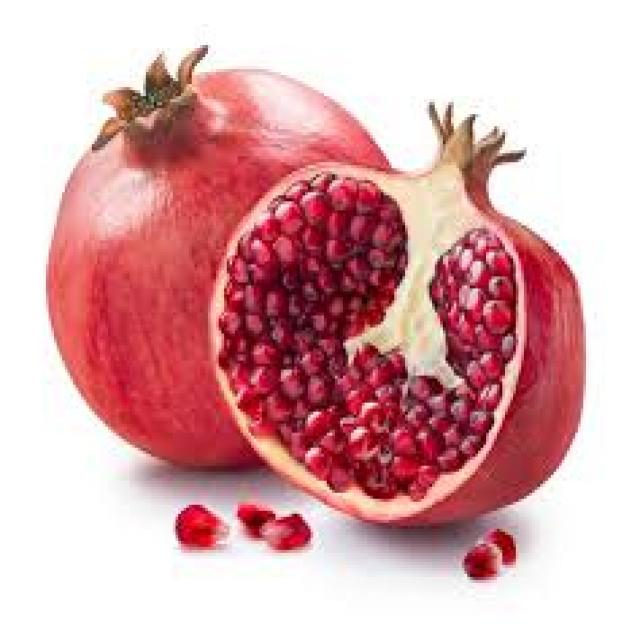organic waste: (206, 102, 584, 523), (43, 54, 405, 466), (173, 502, 227, 550), (259, 514, 311, 550), (456, 538, 499, 577), (478, 529, 516, 565), (238, 502, 272, 529)
